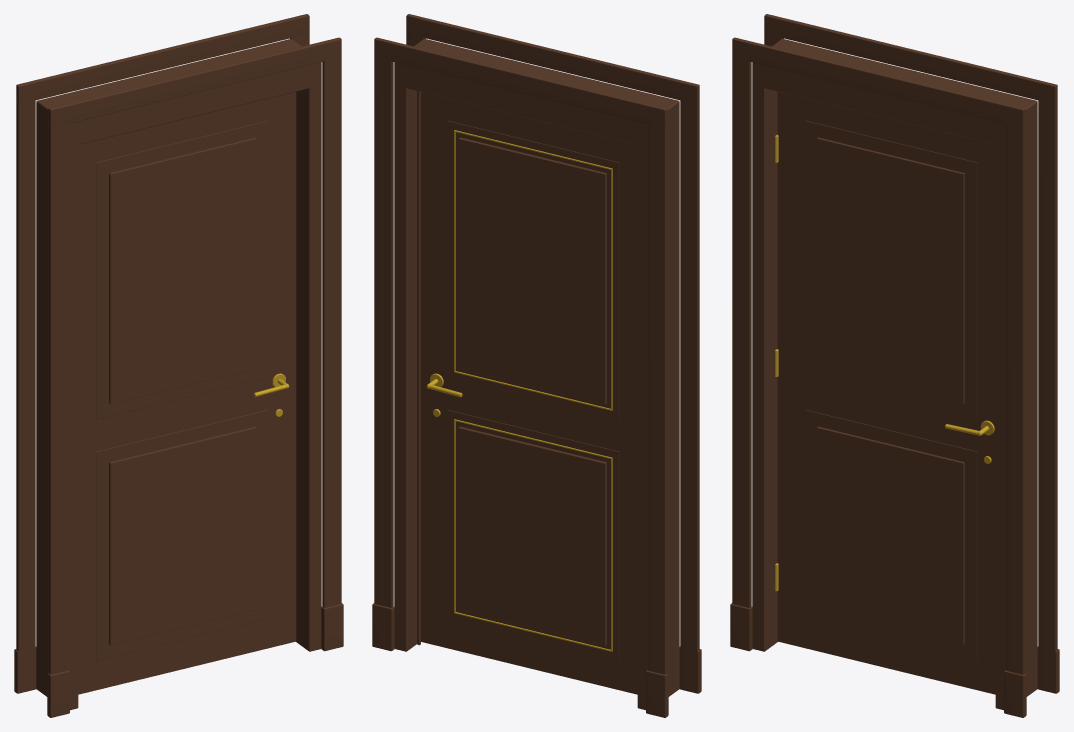
File: prop_door_single_walnut_t20.glb
The picture shows the model from 3 angles, left to right: view 1: azimuth 30°, elevation 25°; view 2: azimuth 150°, elevation 25°; view 3: azimuth 330°, elevation 25°; orthographic projection.
Parts seen in each view (by area): view 1: LeafMesh, Frame; view 2: LeafMesh, Frame; view 3: LeafMesh, Frame.
Boxes of the visible parts, bbox=[...] form: LeafMesh: bbox=[78, 92, 296, 694]; Frame: bbox=[14, 14, 343, 717]; LeafMesh: bbox=[421, 92, 637, 694]; Frame: bbox=[372, 14, 701, 717]; LeafMesh: bbox=[775, 92, 995, 694]; Frame: bbox=[730, 14, 1059, 717].
Size of what is drawn, in the model's own units: 1.15 by 2.27 by 0.248.
